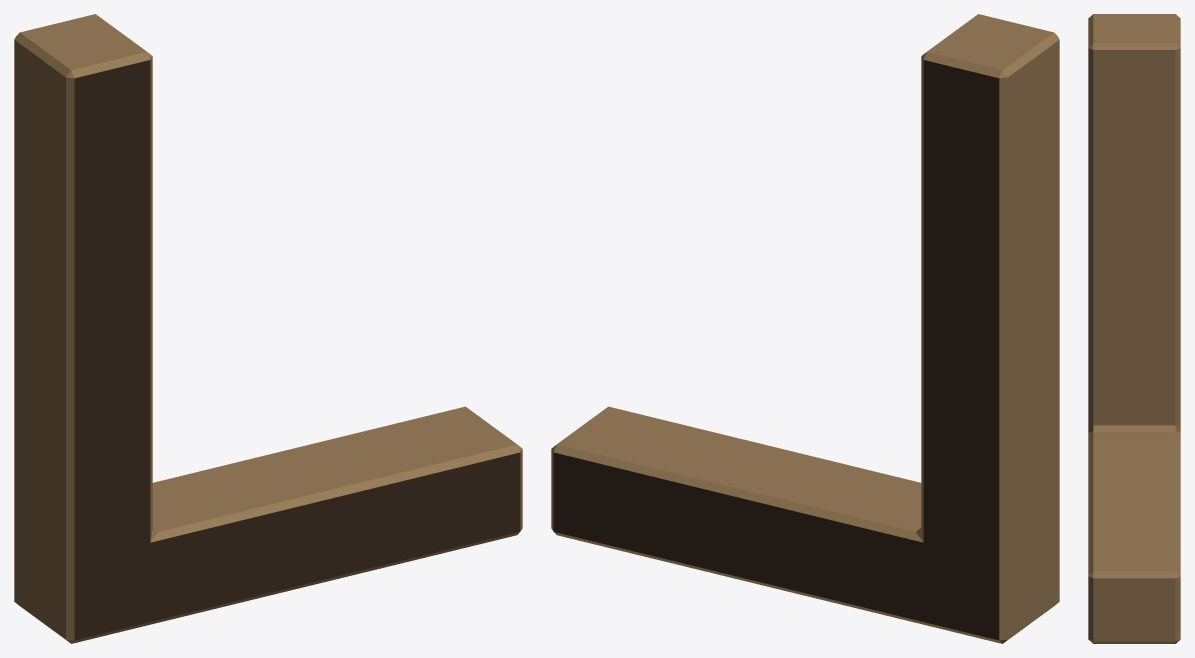
File: nieun.glb
The picture shows the model from 3 angles, left to right: view 1: azimuth 30°, elevation 25°; view 2: azimuth 150°, elevation 25°; view 3: azimuth 270°, elevation 25°; orthographic projection. The views are drawn at different scales.
Visible parts, largest first — view 1: Glyph; view 2: Glyph; view 3: Glyph.
Part boxes in pixels (left/top/right/bottom): Glyph: left=14, top=14, right=522, bottom=643; Glyph: left=551, top=14, right=1059, bottom=643; Glyph: left=1088, top=14, right=1180, bottom=643.
Size of the model in its own units: 0.5 by 0.6 by 0.11.
